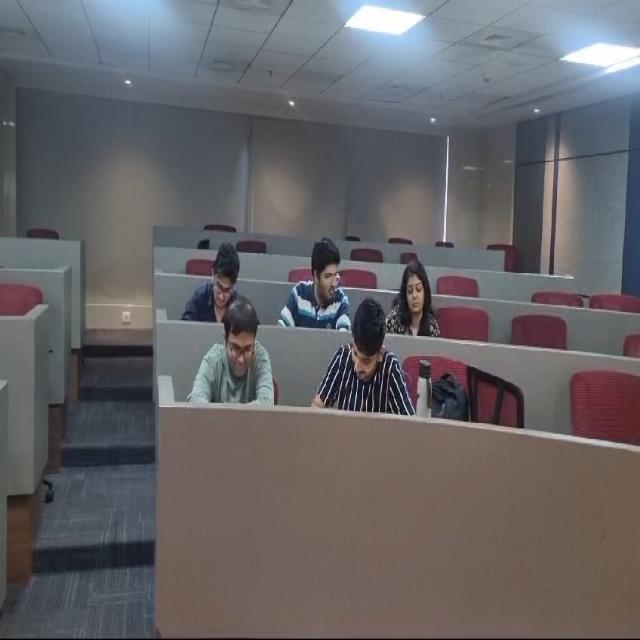cheating: (284, 242, 354, 329)
non-cheating: (318, 301, 405, 421), (196, 296, 279, 409), (186, 240, 244, 316), (388, 260, 438, 336)
